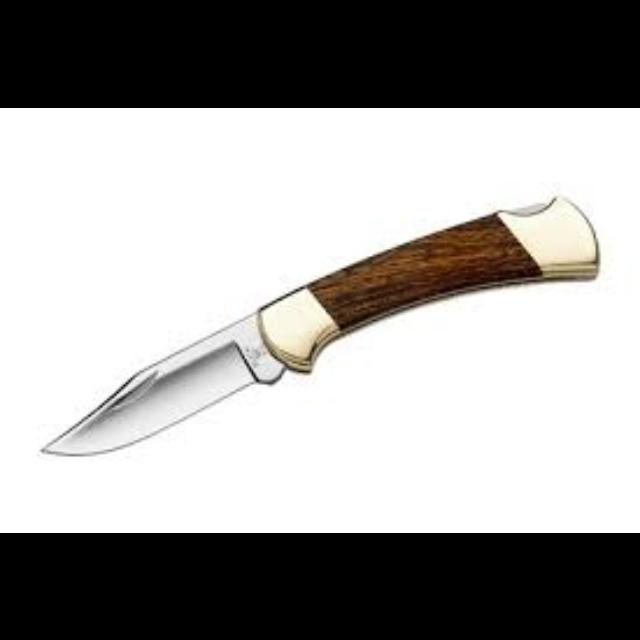Knife: (38, 190, 598, 456)
